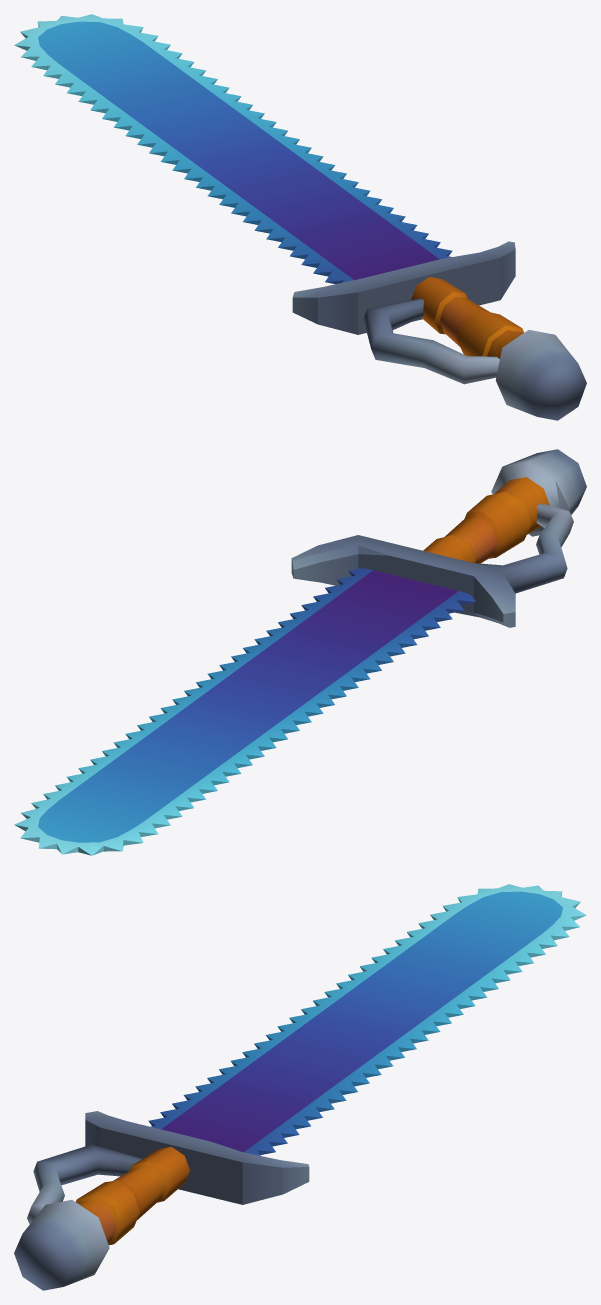
File: chainsaw.fbx
The picture shows the model from 3 angles, top to bottom: view 1: azimuth 30°, elevation 25°; view 2: azimuth 150°, elevation 25°; view 3: azimuth 330°, elevation 25°; orthographic projection.
Visible parts, largest first — view 1: sword3h08; view 2: sword3h08; view 3: sword3h08.
Part boxes in pixels (<box>): sword3h08: <box>14,14,586,420</box>; sword3h08: <box>14,449,586,855</box>; sword3h08: <box>14,884,586,1290</box>.
Size of the model in its own units: 18.09 by 6.01 by 71.28.
1 material, 1 textured.
